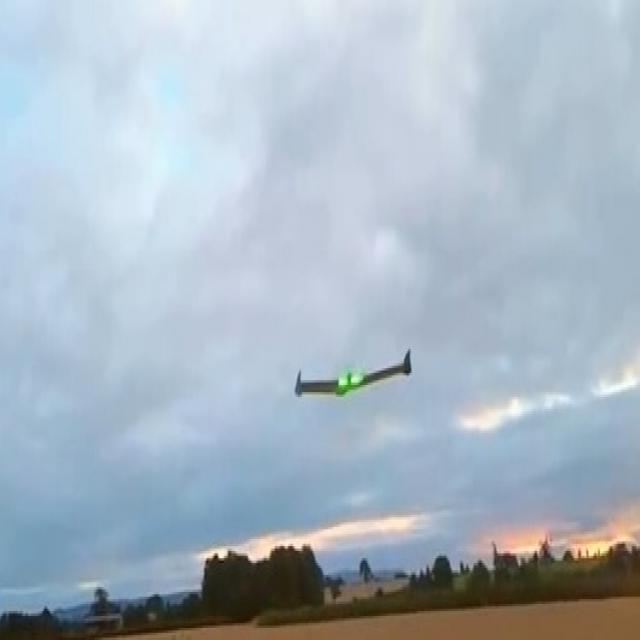iha: (291, 343, 419, 401)
